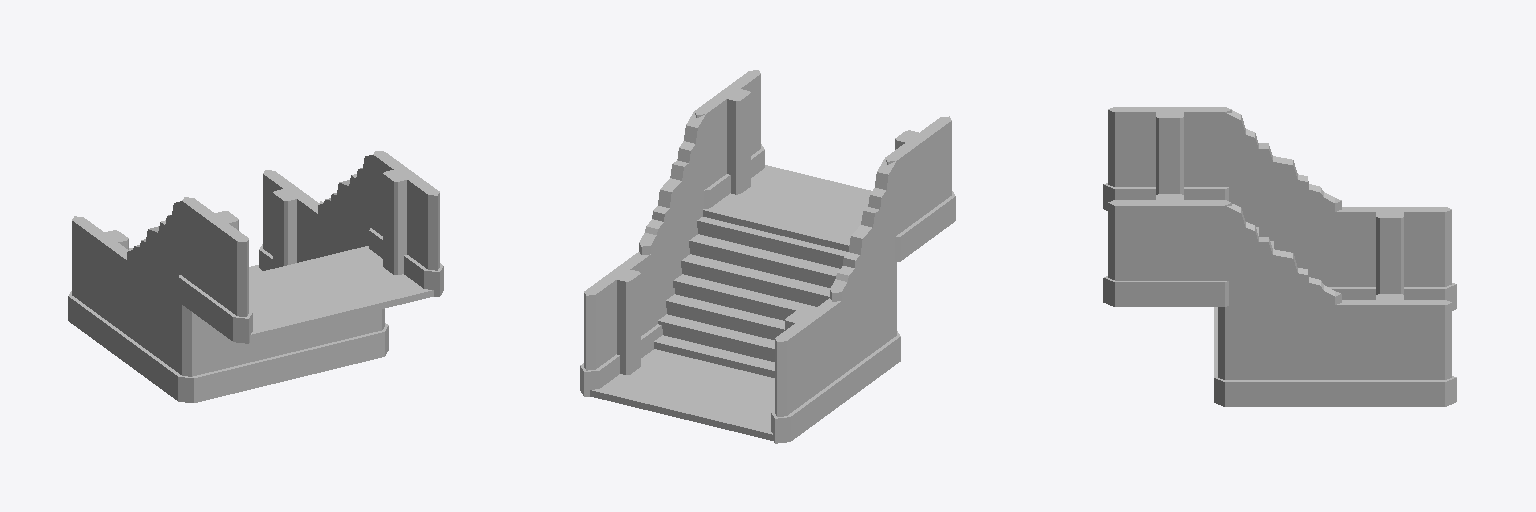
The model's file is hallway_stair_03.obj.
3 renders of one model, left to right at view 1: azimuth 30°, elevation 25°; view 2: azimuth 150°, elevation 25°; view 3: azimuth 270°, elevation 25°, orthographic.
Parts seen in each view (by area): view 1: stairs_01_0, floor_04_1, wall_02_9, wall_02_10, wall_02_8, wall_02_7; view 2: stairs_01_0, floor_04_0, floor_04_1, wall_02_8, wall_02_7, wall_02_9, wall_02_10; view 3: stairs_01_0, wall_02_10, wall_02_7, wall_02_9, wall_02_8.
Boxes of the visible parts, <box> form: stairs_01_0: <box>123,153,388,402</box>; floor_04_1: <box>249,246,433,340</box>; wall_02_9: <box>178,197,252,343</box>; wall_02_10: <box>369,151,443,296</box>; wall_02_8: <box>68,216,128,360</box>; wall_02_7: <box>259,170,318,270</box>; stairs_01_0: <box>639,110,900,400</box>; floor_04_0: <box>590,349,774,440</box>; floor_04_1: <box>703,165,871,251</box>; wall_02_8: <box>771,298,845,443</box>; wall_02_7: <box>580,252,654,396</box>; wall_02_9: <box>885,116,955,261</box>; wall_02_10: <box>694,70,764,208</box>; stairs_01_0: <box>1214,107,1341,406</box>; wall_02_10: <box>1103,194,1231,306</box>; wall_02_7: <box>1335,294,1456,406</box>; wall_02_9: <box>1103,107,1231,210</box>; wall_02_8: <box>1335,207,1456,310</box>.
Bounding box in the file's own units: 2.21 × 2 × 3.21.